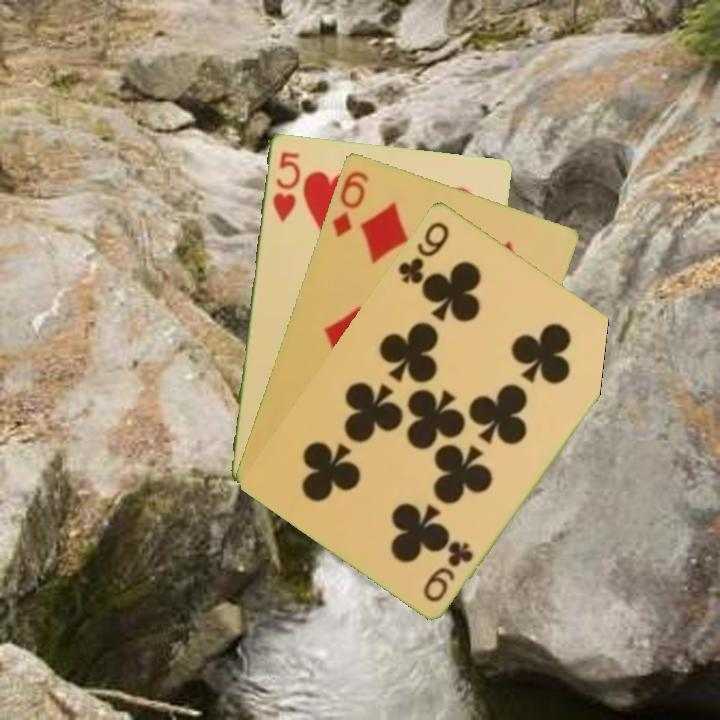5h: (268, 147, 302, 224)
6d: (328, 167, 371, 239)
9c: (394, 217, 452, 287), (419, 537, 477, 605)
